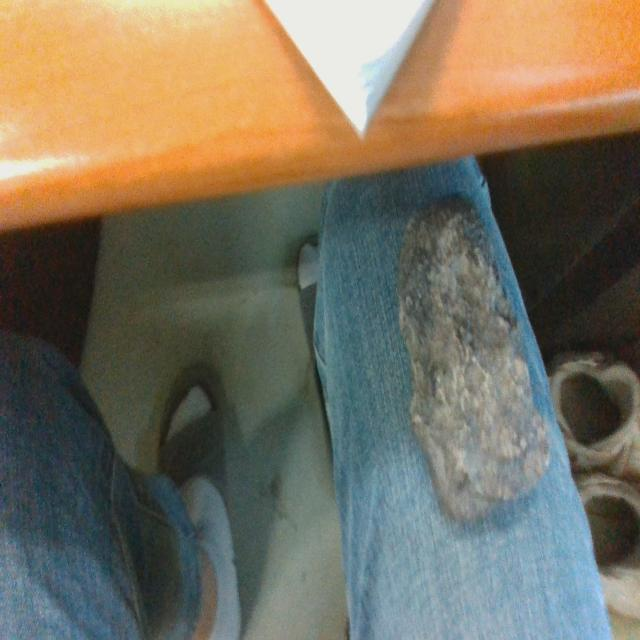stone: (397, 191, 550, 524)
